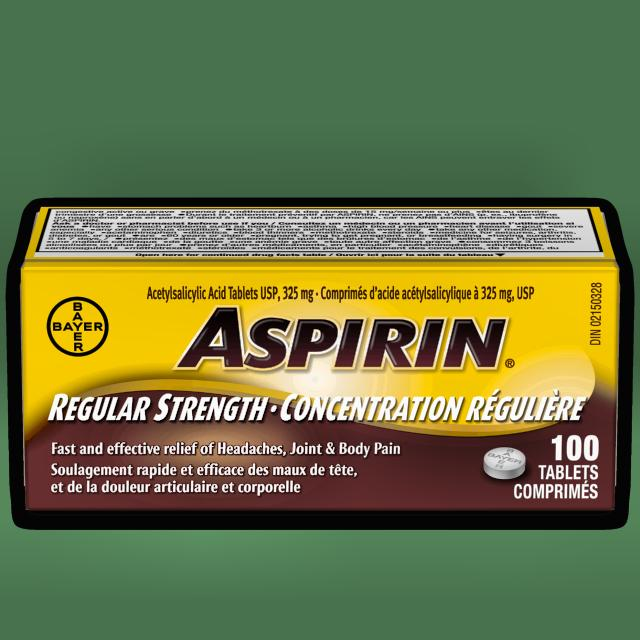Aspirin: (21, 272, 614, 510)
